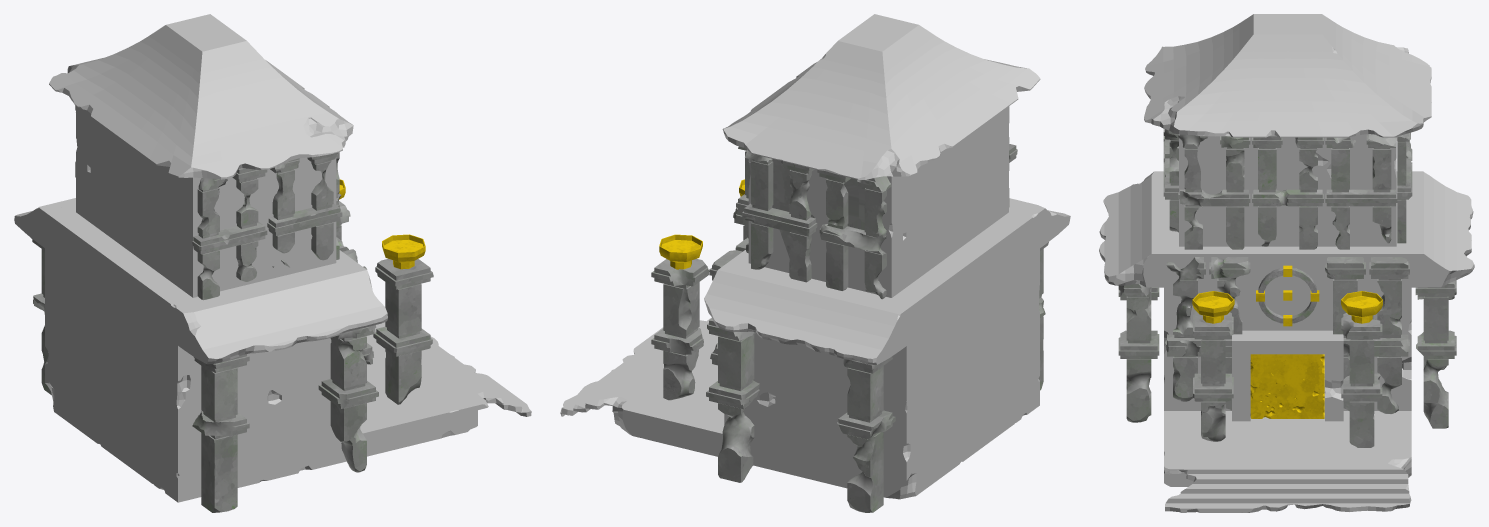
Rendered from Temple - 005.fbx.
3 renders of one model, left to right at view 1: azimuth 30°, elevation 25°; view 2: azimuth 150°, elevation 25°; view 3: azimuth 270°, elevation 25°, orthographic. The views are drawn at different scales.
Parts seen in each view (by area): view 1: Temple Building, Temple Pedastals, Temple Gold; view 2: Temple Building, Temple Pedastals, Temple Gold; view 3: Temple Building, Temple Pedastals, Temple Door, Temple Gold, Temple - Ring.
Part boxes in pixels (x1,y1,x2,y2): Temple Building: (14,14,531,502); Temple Pedastals: (30,106,433,512); Temple Gold: (339,179,425,269); Temple Building: (560,14,1070,499); Temple Pedastals: (651,106,1048,512); Temple Gold: (659,179,744,269); Temple Building: (1099,14,1474,512); Temple Pedastals: (1118,129,1456,447); Temple Door: (1250,354,1324,418); Temple Gold: (1192,265,1382,326); Temple - Ring: (1258,267,1316,323).
Size of the model in its own units: 1550 by 1653 by 1518.
